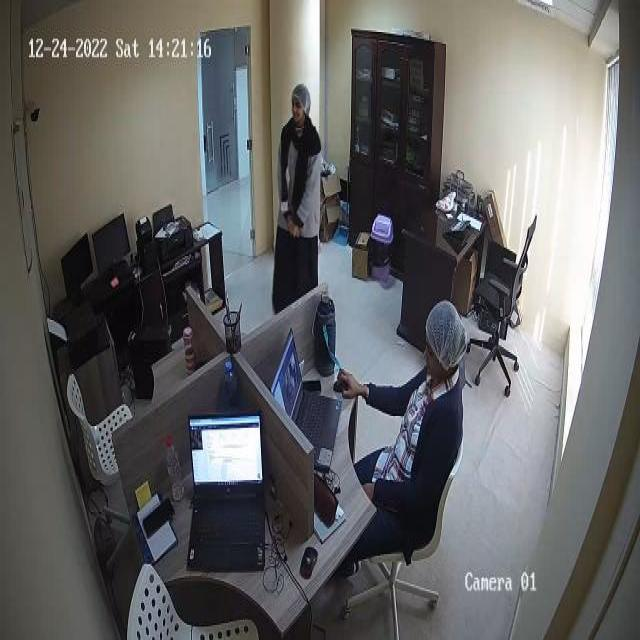hairnet: (429, 300, 464, 358), (292, 84, 312, 112)
